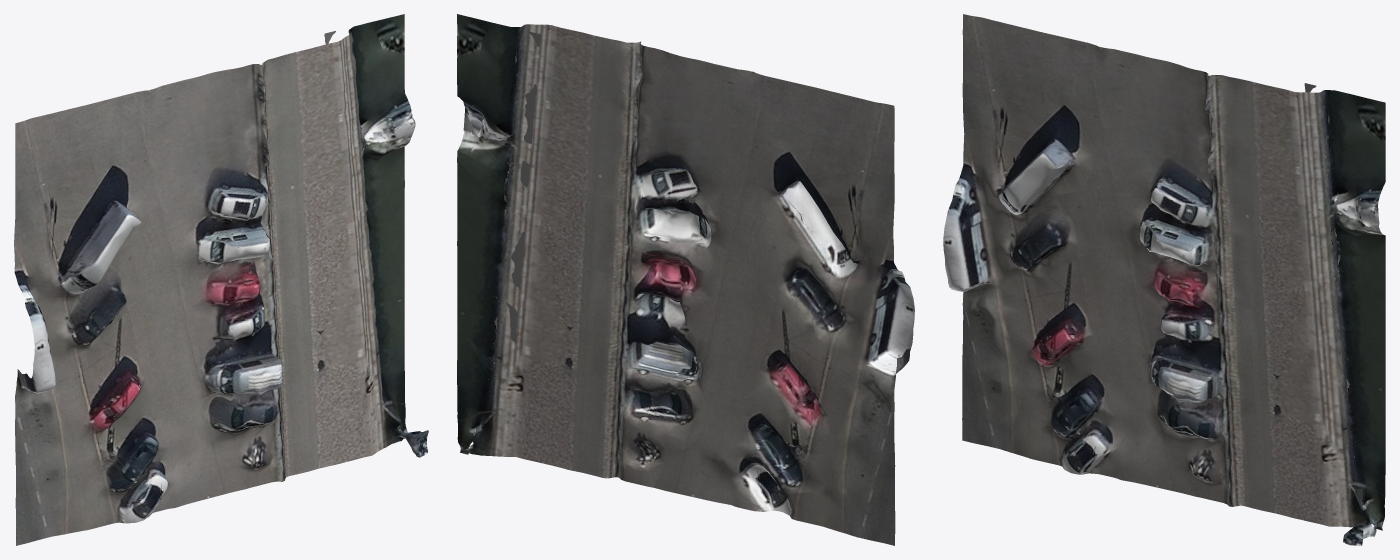
Rendered from Tile_+029_+018_L21_0010000.fbx.
3 views of the same model, side by side, from view 1: azimuth 30°, elevation 25°; view 2: azimuth 150°, elevation 25°; view 3: azimuth 330°, elevation 25° (orthographic). The views are drawn at different scales.
Visible parts, largest first — view 1: DefaultName; view 2: DefaultName; view 3: DefaultName.
Part boxes in pixels (<box>): DefaultName: <box>14,14,428,545</box>; DefaultName: <box>457,14,914,545</box>; DefaultName: <box>943,14,1385,545</box>.
Bounding box in the file's own units: 31.38 × 31.31 × 4.93.
Materials: 1 (1 with a texture image).
